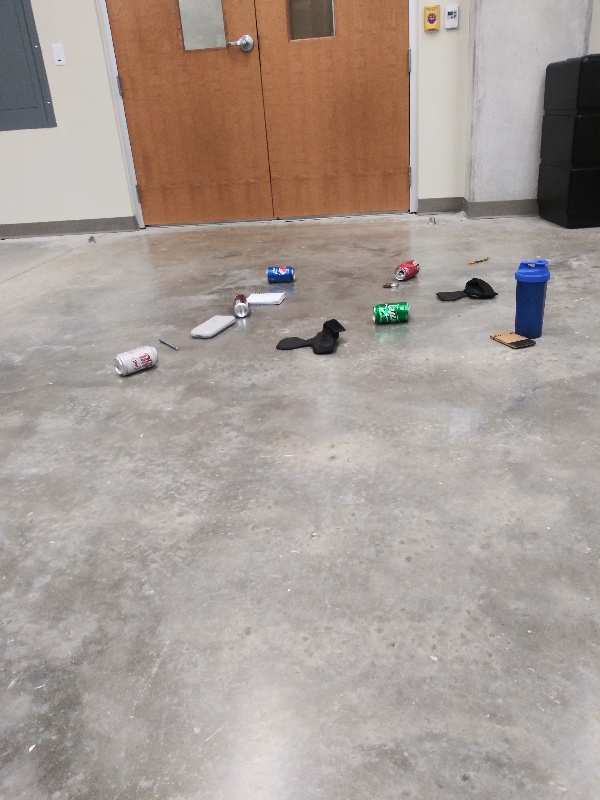can: (111, 340, 163, 381), (368, 298, 415, 328), (262, 262, 304, 287), (390, 255, 424, 284), (230, 290, 256, 322)
